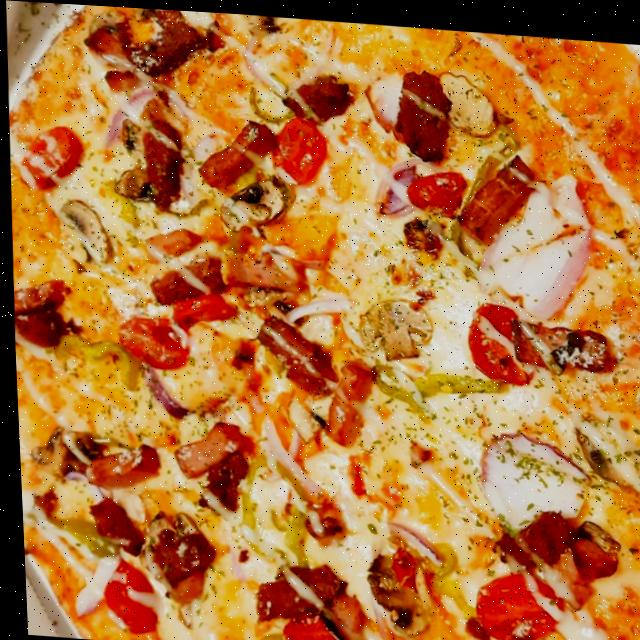mushrooms: (352, 285, 432, 364), (207, 167, 291, 240), (103, 110, 160, 203), (430, 62, 501, 134), (363, 570, 429, 636), (54, 193, 110, 263), (26, 423, 92, 482), (571, 417, 630, 481), (128, 503, 195, 549), (279, 394, 321, 443), (574, 510, 614, 549), (353, 634, 433, 640)
pizza: (0, 0, 640, 640)
tomatoes: (466, 556, 559, 640), (461, 293, 532, 386), (10, 119, 83, 195), (260, 111, 331, 187), (96, 553, 158, 640), (112, 311, 187, 374), (168, 288, 238, 337), (383, 542, 443, 597), (404, 164, 467, 215)
